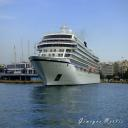cruises: (29, 24, 103, 90)
